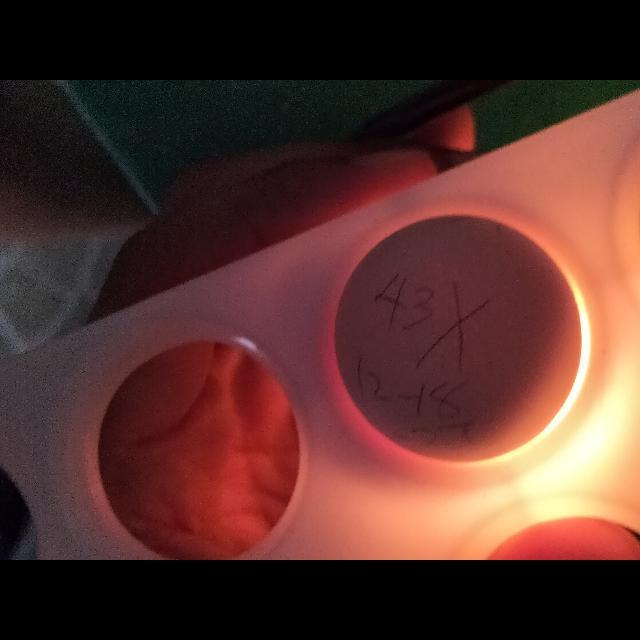Fertile: (328, 212, 590, 462)
